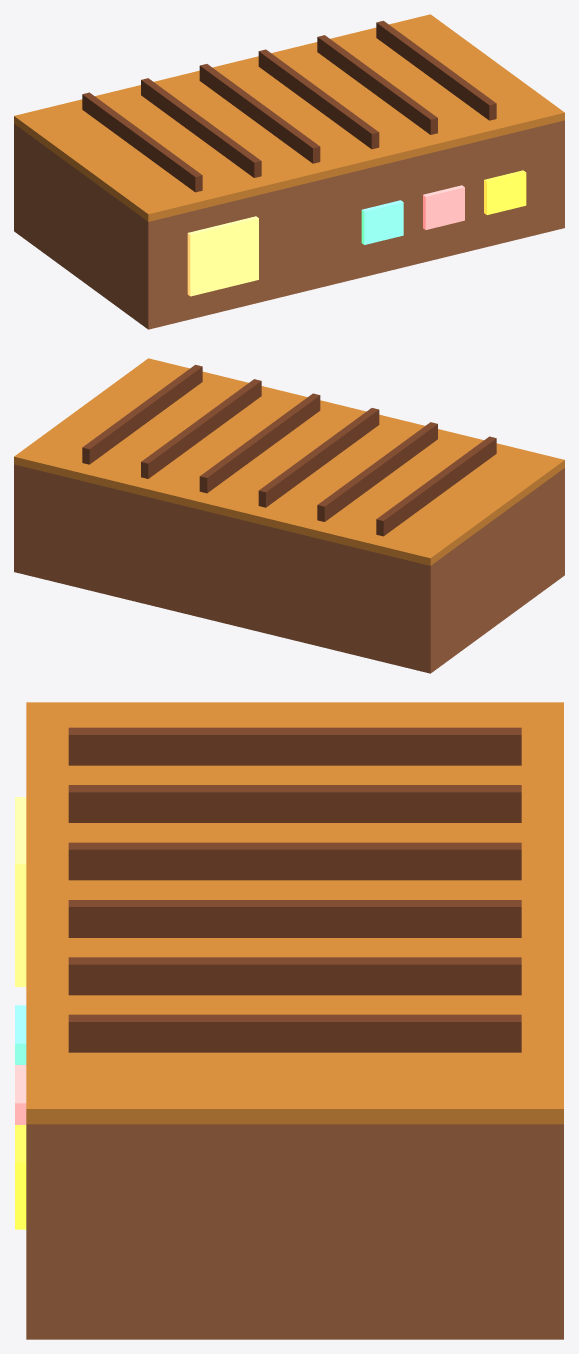
File: firewall.glb
3 views of the same model, one above another, from view 1: azimuth 30°, elevation 25°; view 2: azimuth 150°, elevation 25°; view 3: azimuth 270°, elevation 25° (orthographic). The views are drawn at different scales.
Parts seen in each view (by area): view 1: firewall; view 2: firewall; view 3: firewall.
Part boxes in pixels (x1,y1,x2,y2): firewall: [14, 14, 564, 329]; firewall: [14, 358, 564, 673]; firewall: [15, 702, 563, 1339].
Bounding box in the file's own units: 1.7 × 0.51 × 0.97.
